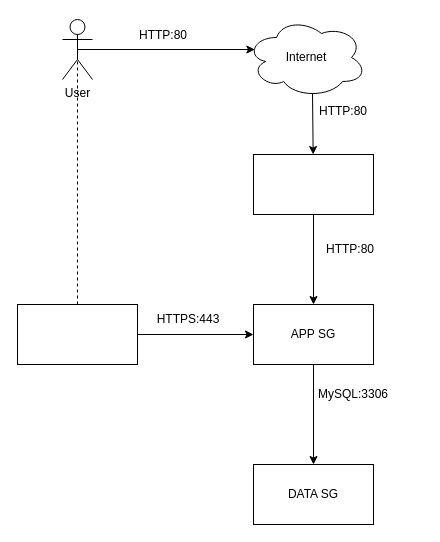
Image size: 440x542. Some labels were removed from this diagram. The shapes that lost their labels are listed below. From the top down, each one's box as (x1, y1, x2, y2) in pixels, then its label:
(252, 154, 374, 214): ALB SG
(16, 304, 138, 364): SSM SG
